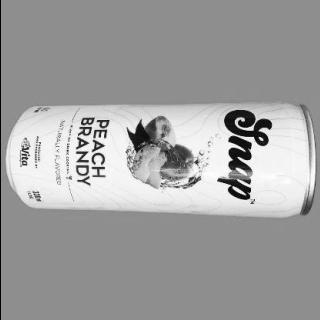alumunium_can: (2, 100, 316, 220)
